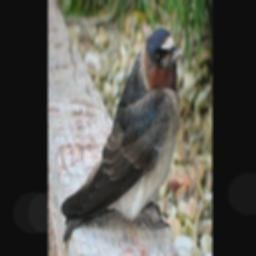Swallow: (58, 21, 185, 247)
